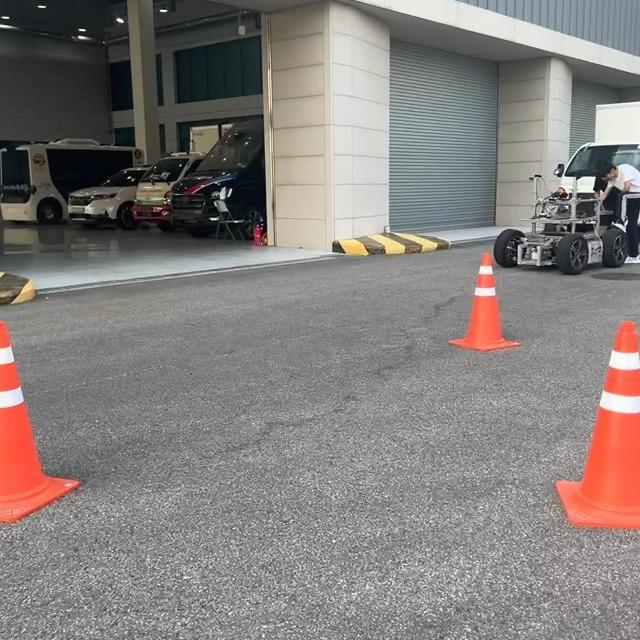fallen_object: (0, 324, 102, 572), (541, 315, 640, 509), (453, 230, 494, 355)
